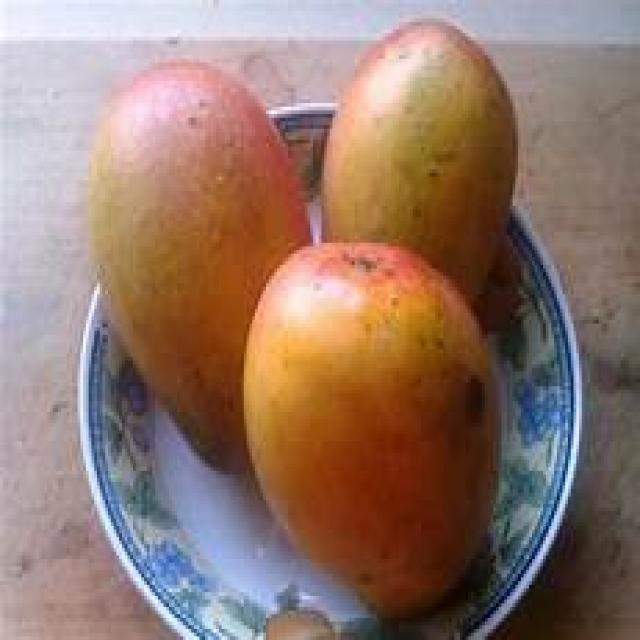Mango: (239, 240, 502, 620), (82, 54, 239, 477), (316, 10, 524, 246)
